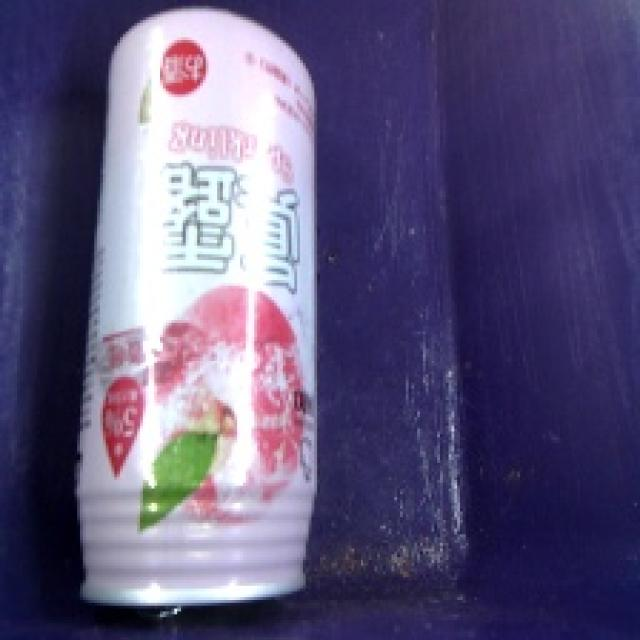metal: (71, 0, 330, 615)
